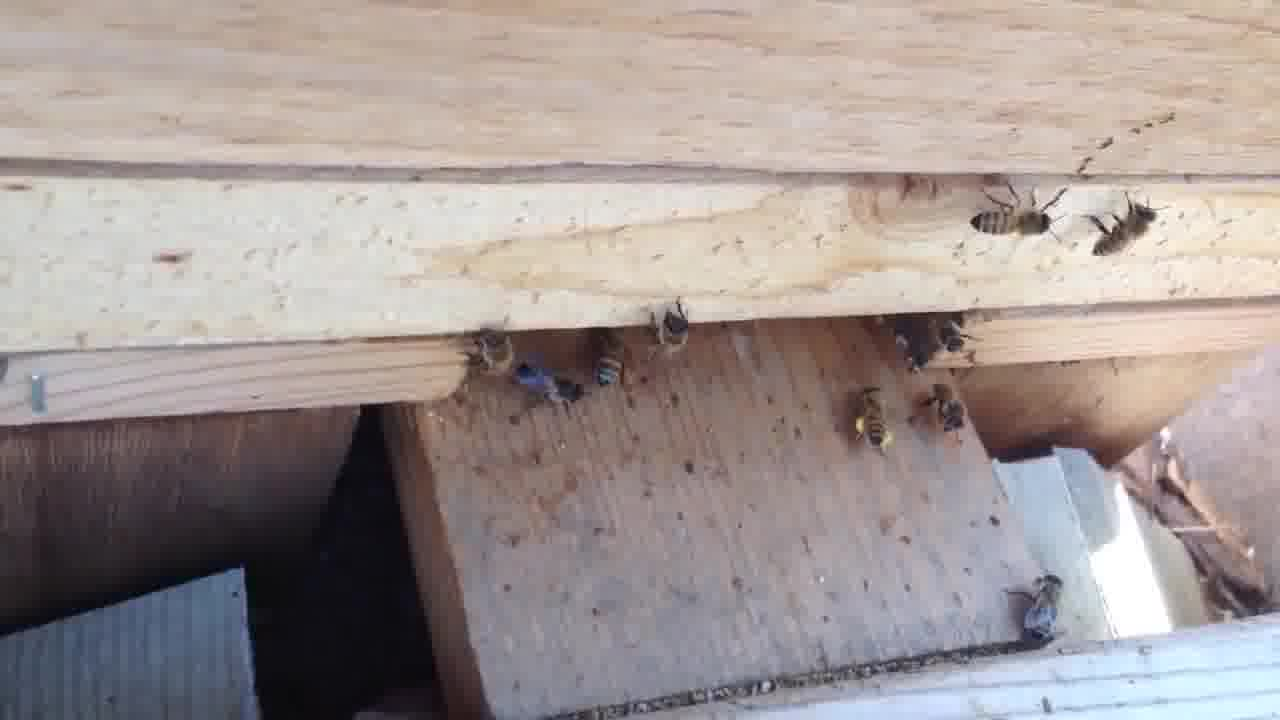pollen: (844, 382, 903, 453)
